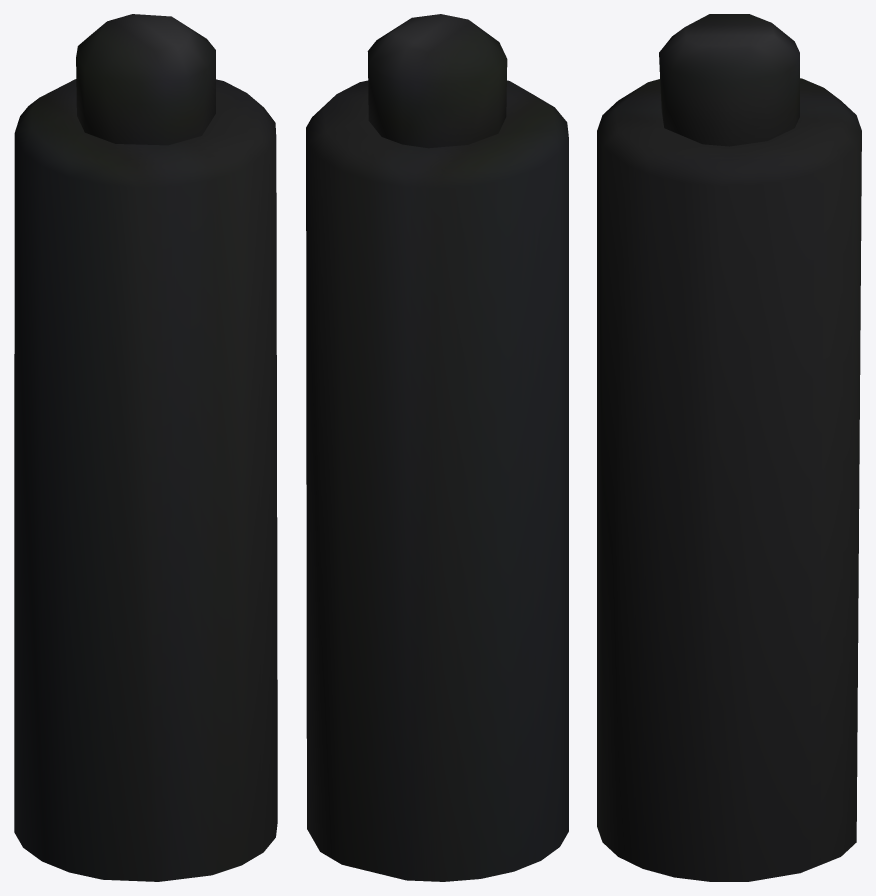
The model's file is Headless_Shoulder_Pin.dae.
The picture shows the model from 3 angles, left to right: view 1: azimuth 30°, elevation 25°; view 2: azimuth 150°, elevation 25°; view 3: azimuth 270°, elevation 25°; orthographic projection.
Visible parts, largest first — view 1: Headless_Shoulder_Pin; view 2: Headless_Shoulder_Pin; view 3: Headless_Shoulder_Pin.
Part boxes in pixels (box(x1,y1,x2,y2)): Headless_Shoulder_Pin: box(14, 14, 277, 881); Headless_Shoulder_Pin: box(306, 14, 568, 881); Headless_Shoulder_Pin: box(597, 14, 861, 881).
Bounding box in the file's own units: 0.00414 × 0.00418 × 0.0139.
1 material, 1 textured.
